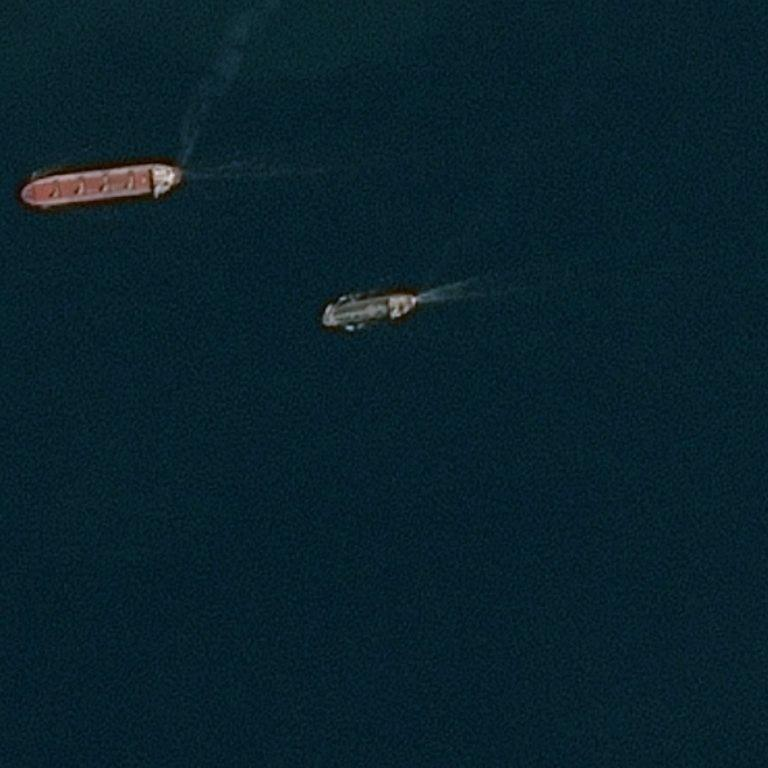ship: (17, 160, 186, 209), (320, 308, 422, 314)
